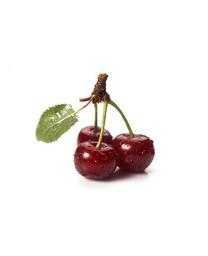cherry: (73, 139, 119, 181), (114, 133, 154, 175), (77, 126, 113, 162)
